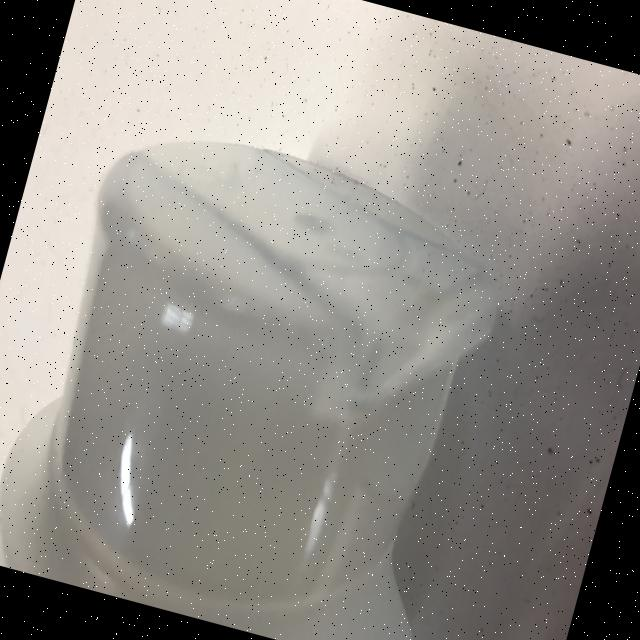plastic: (0, 102, 541, 640)
